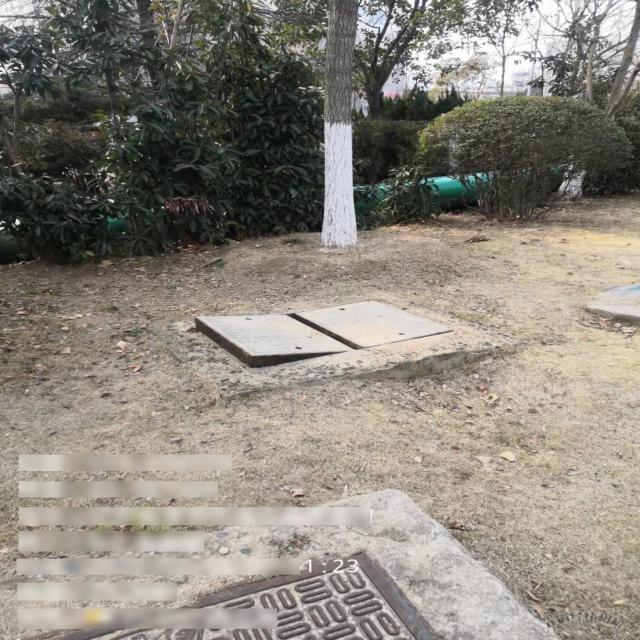Faulty: (193, 299, 452, 367)
